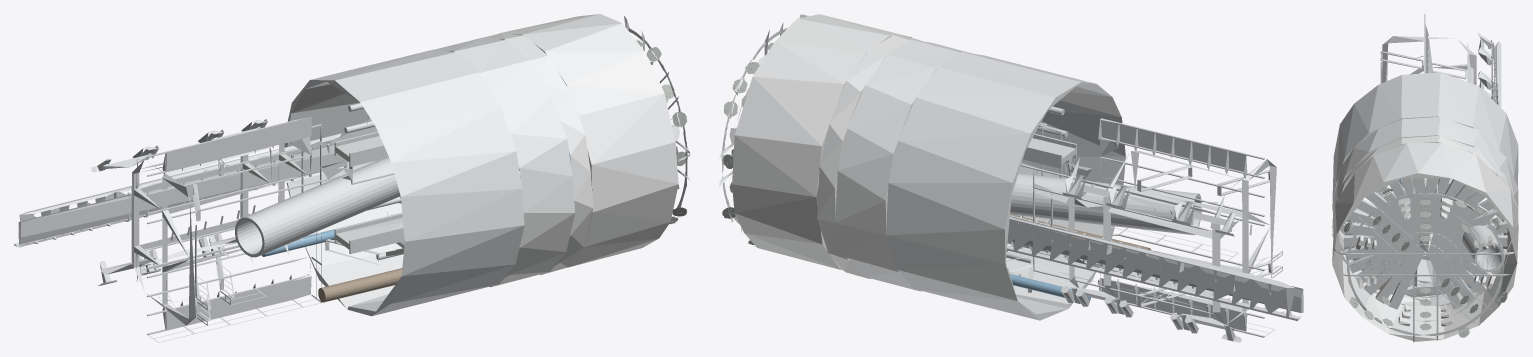
Rendered from multi_mode.glb.
The picture shows the model from 3 angles, left to right: view 1: azimuth 30°, elevation 25°; view 2: azimuth 150°, elevation 25°; view 3: azimuth 270°, elevation 25°; orthographic projection. The views are drawn at different scales.
Visible parts, largest first — view 1: ShieldTail, MachineStructure, ShieldSkin, ShieldMiddle, ShieldFrontCollar, Railings, TypeKit/MultiMode/ReturnLine, Cutterhead, Stairs, TypeKit/MultiMode/FeedLine; view 2: ShieldTail, MachineStructure, ShieldSkin, ShieldMiddle, ShieldFrontCollar, Stairs, ServiceTanks, Cutterhead, Railings, TypeKit/MultiMode/FeedLine; view 3: TypeKit/MultiMode/SubmergedWall, ShieldSkin, ShieldTail, MachineStructure, ShieldMiddle, ShieldShell, Cutterhead, ShieldFrontCollar, Stairs.
Boxes of the visible parts, x1,y1,x2,y2 form: ShieldTail: [284, 49, 524, 316]; MachineStructure: [14, 16, 690, 335]; ShieldSkin: [500, 14, 678, 267]; ShieldMiddle: [434, 37, 575, 287]; ShieldFrontCollar: [485, 33, 593, 274]; Railings: [148, 232, 321, 342]; TypeKit/MultiMode/ReturnLine: [318, 229, 571, 302]; Cutterhead: [636, 40, 687, 224]; Stairs: [193, 138, 223, 313]; TypeKit/MultiMode/FeedLine: [261, 213, 399, 256]; ShieldTail: [886, 52, 1125, 320]; MachineStructure: [719, 22, 1303, 342]; ShieldSkin: [732, 14, 911, 270]; ShieldMiddle: [835, 39, 970, 291]; ShieldFrontCollar: [817, 35, 922, 278]; Stairs: [1137, 165, 1272, 306]; ServiceTanks: [1061, 286, 1198, 333]; Cutterhead: [722, 14, 807, 244]; Railings: [1101, 226, 1282, 336]; TypeKit/MultiMode/FeedLine: [1010, 274, 1090, 301]; TypeKit/MultiMode/SubmergedWall: [1343, 178, 1507, 309]; ShieldSkin: [1332, 142, 1518, 341]; ShieldTail: [1332, 72, 1518, 283]; MachineStructure: [1333, 14, 1514, 342]; ShieldMiddle: [1332, 116, 1518, 300]; ShieldShell: [1345, 188, 1507, 333]; Cutterhead: [1344, 187, 1507, 337]; ShieldFrontCollar: [1332, 135, 1518, 306]; Stairs: [1380, 51, 1466, 79].
Bounding box in the file's own units: 28.78 × 10.5 × 10.49.
